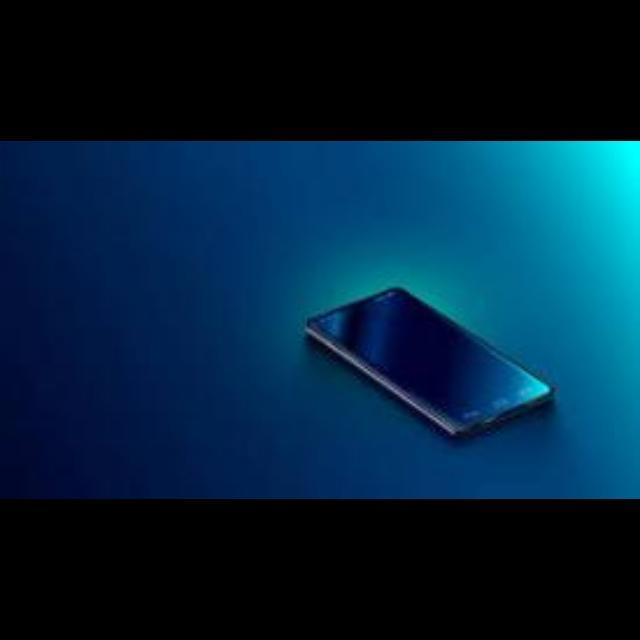Phone: (306, 286, 556, 442)
